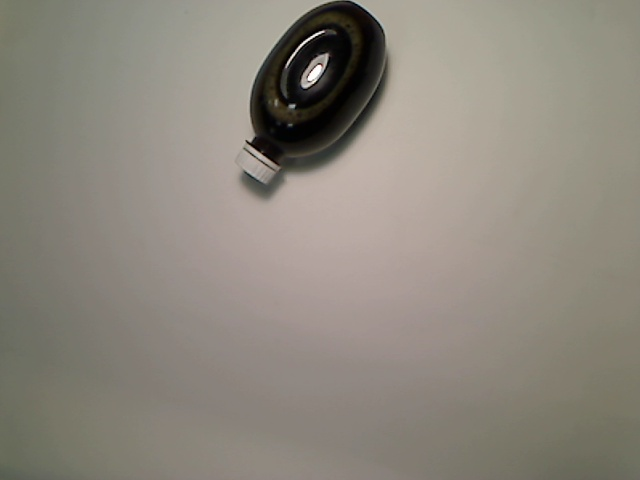plast_bottle: (233, 1, 390, 187)
